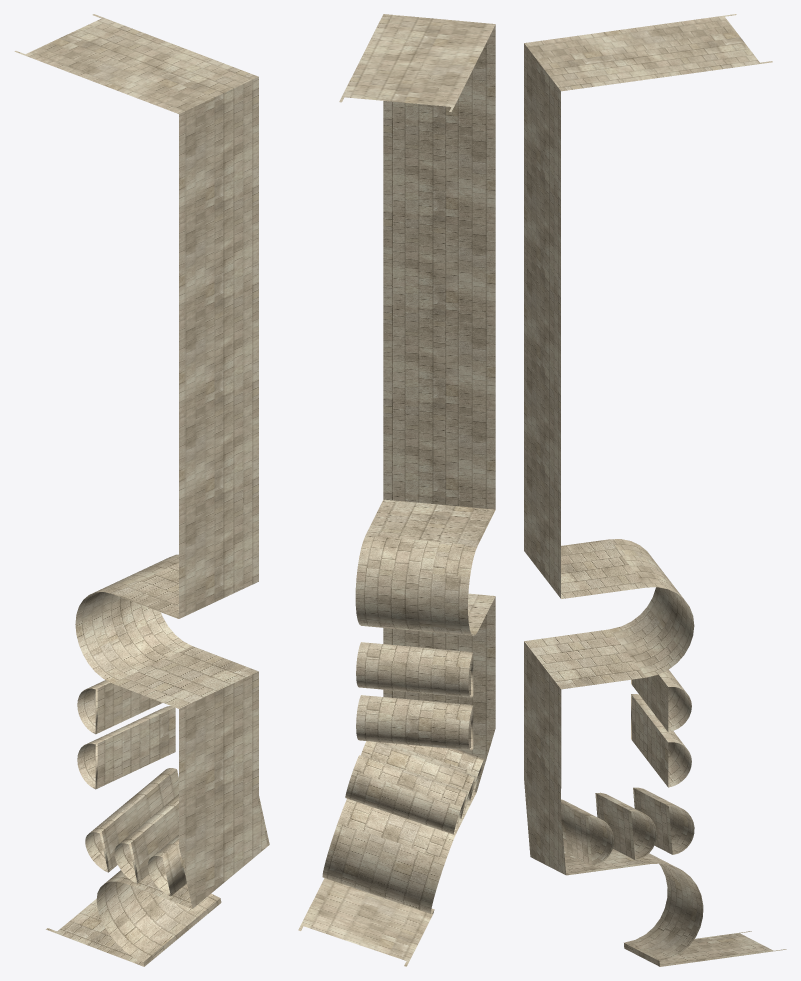
Rendered from walls_119.fbx.
The picture shows the model from 3 angles, left to right: view 1: azimuth 30°, elevation 25°; view 2: azimuth 150°, elevation 25°; view 3: azimuth 270°, elevation 25°; orthographic projection. The views are drawn at different scales.
Parts seen in each view (by area): view 1: walls_119; view 2: walls_119; view 3: walls_119.
Part boxes in pixels (x1,y1,x2,y2): walls_119: (14, 14, 269, 966); walls_119: (298, 14, 495, 966); walls_119: (524, 14, 786, 966).
Size of the model in its own units: 496 by 2475 by 657.
